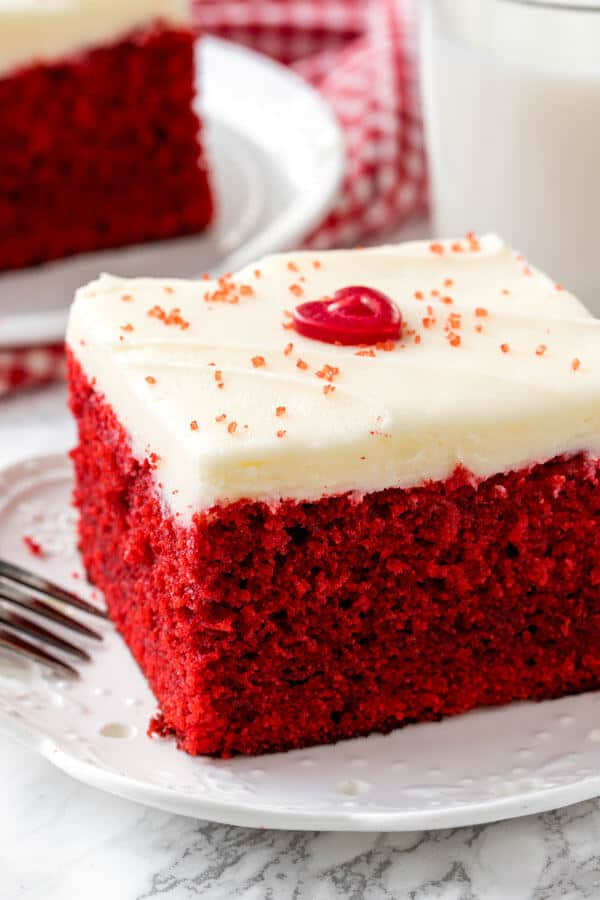red_velvet_cake: (32, 182, 600, 779)
